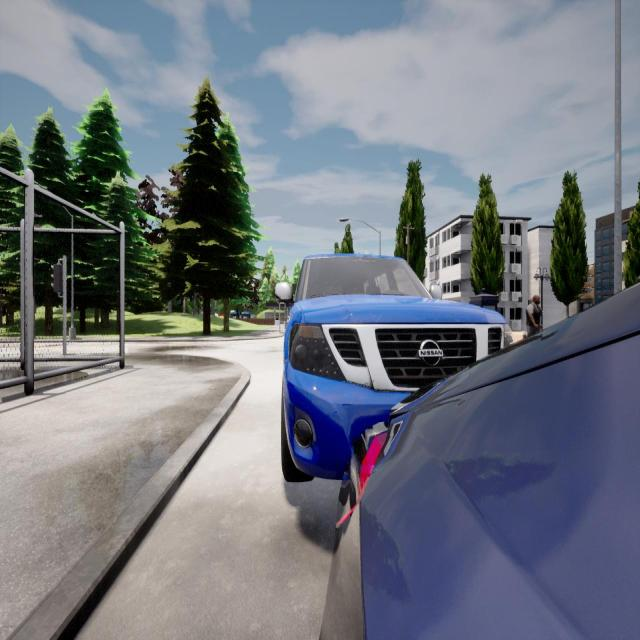Pedestrian: (526, 295, 542, 336)
Vehicle: (320, 284, 640, 638), (281, 254, 514, 485)
traffic_light: (51, 264, 63, 292)
